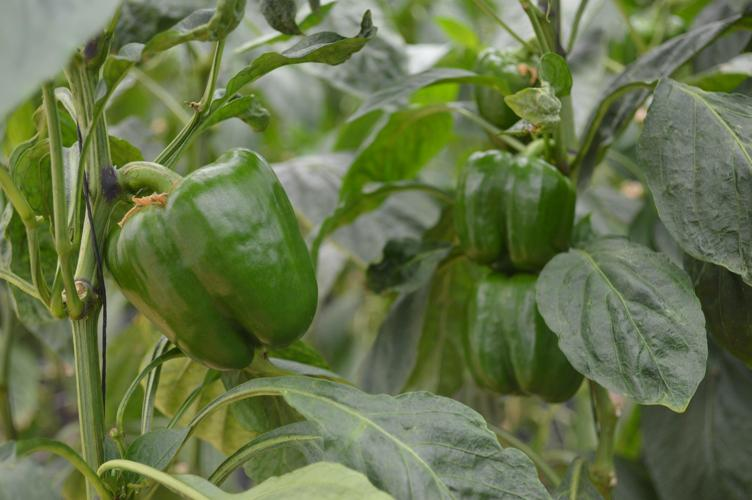BellPepper: (104, 147, 318, 366), (458, 273, 578, 404), (457, 151, 574, 266), (476, 51, 540, 124)
